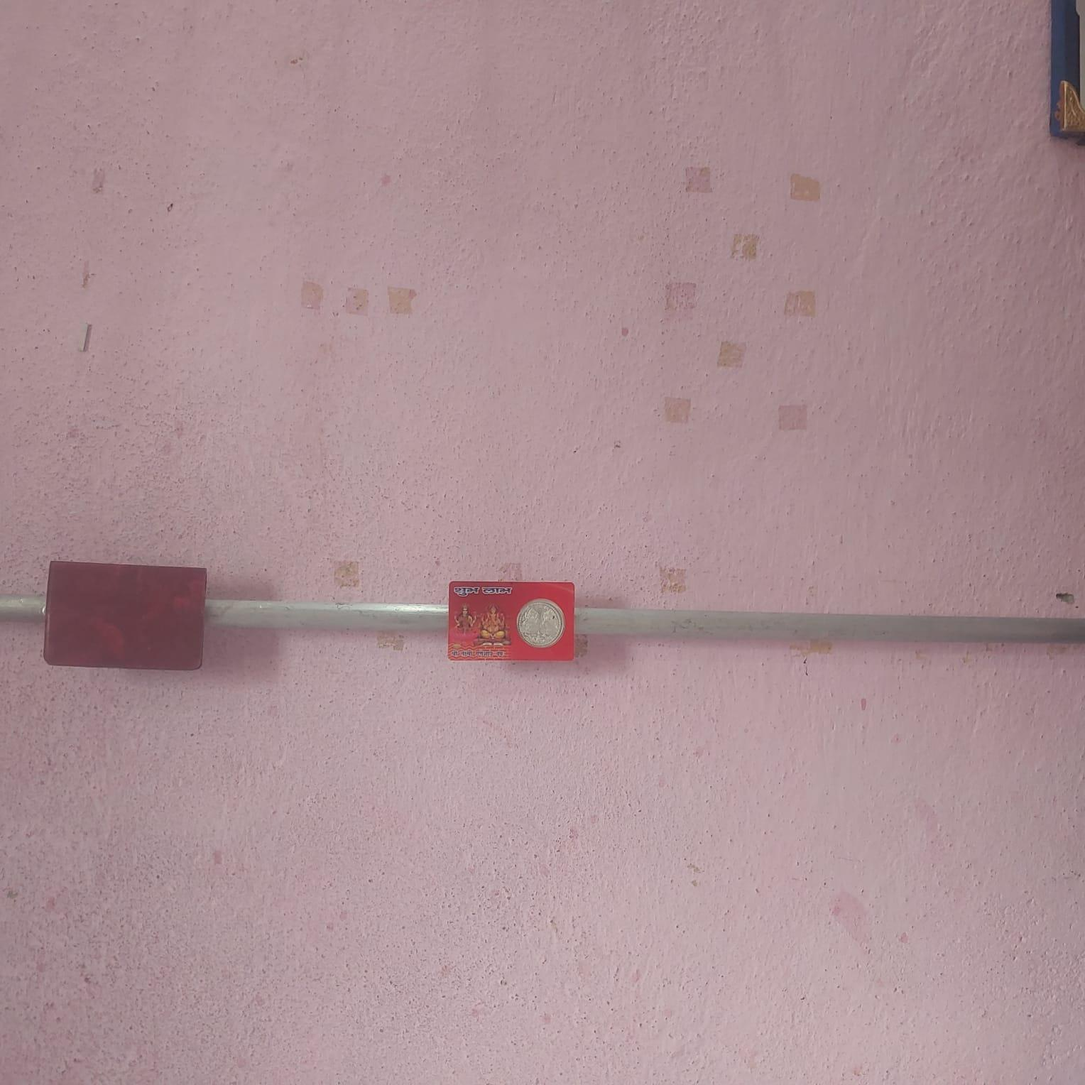blessing_card: (438, 577, 580, 658)
